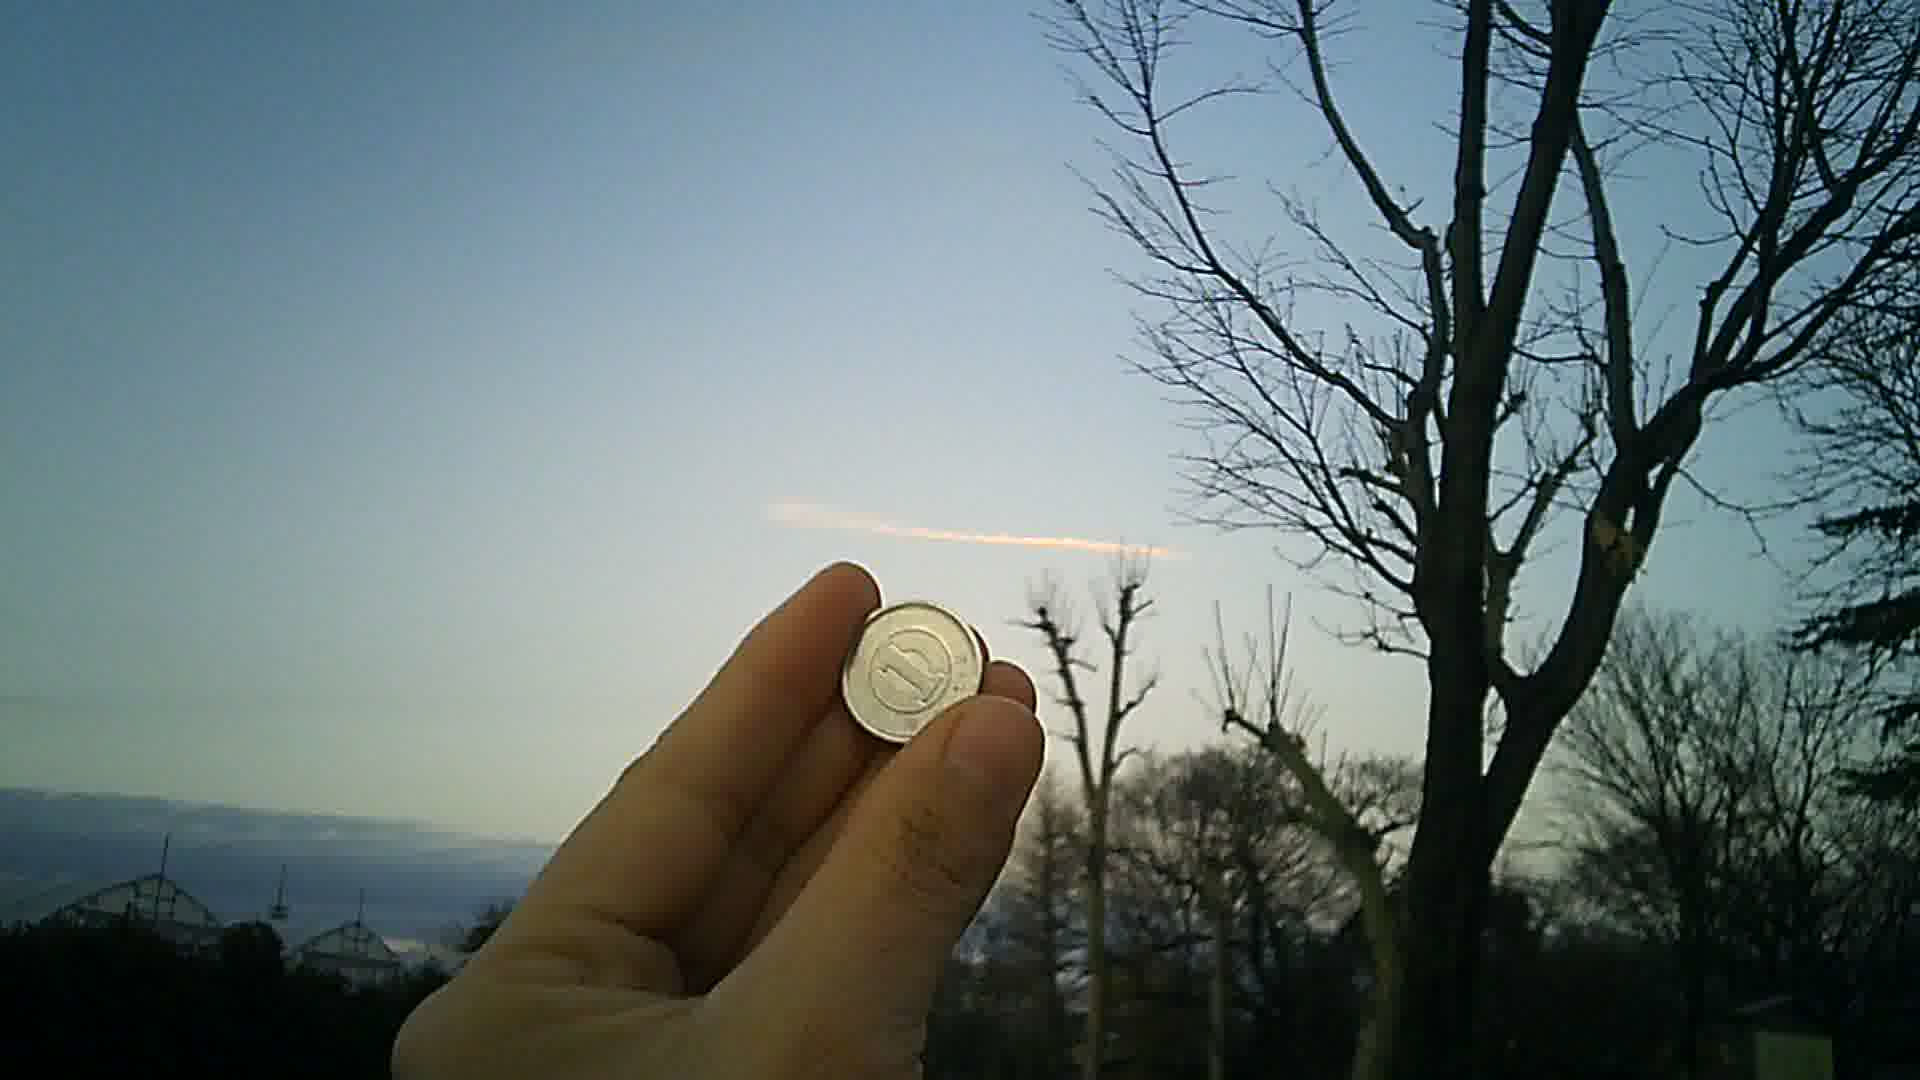1 Yen: (833, 591, 992, 740)
